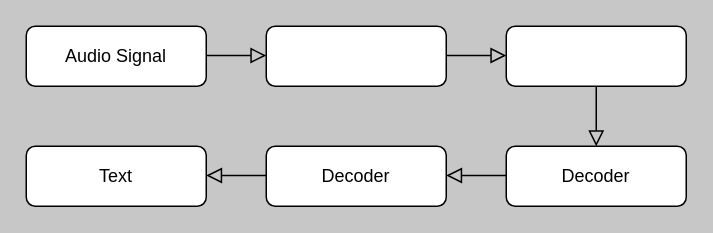
This 713x233 diagram has some shape labels left out. Here are the shapes that lost their labels. From the top down, the centre of each, then its label:
the point at 355,55: Preprocessing
the point at 595,55: Acoustic Model
